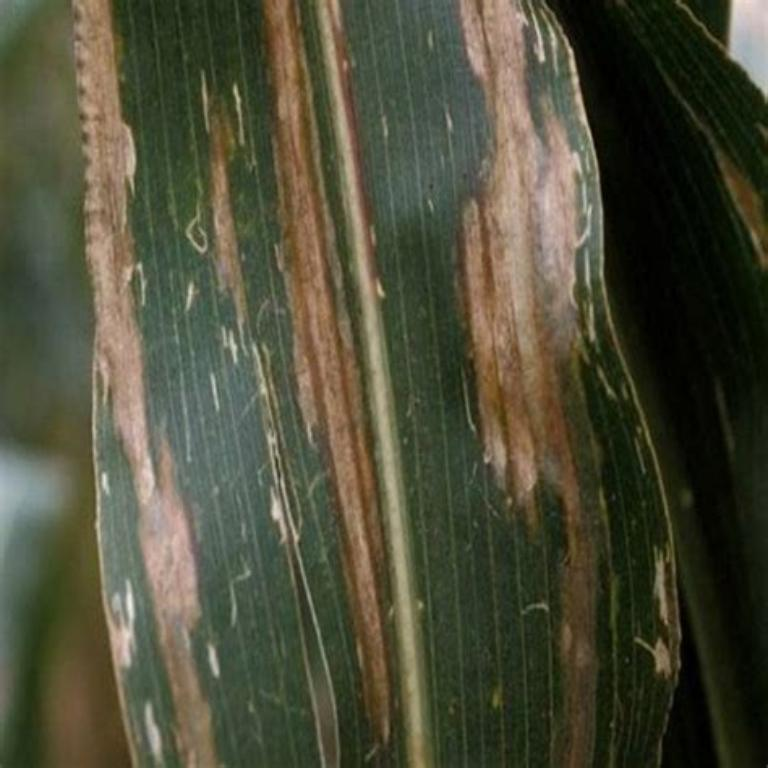blight: (54, 0, 225, 672), (426, 0, 602, 566)
